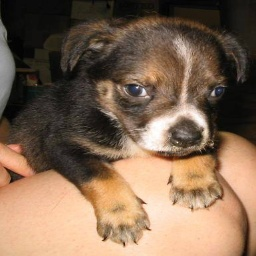dog: (22, 17, 238, 238)
